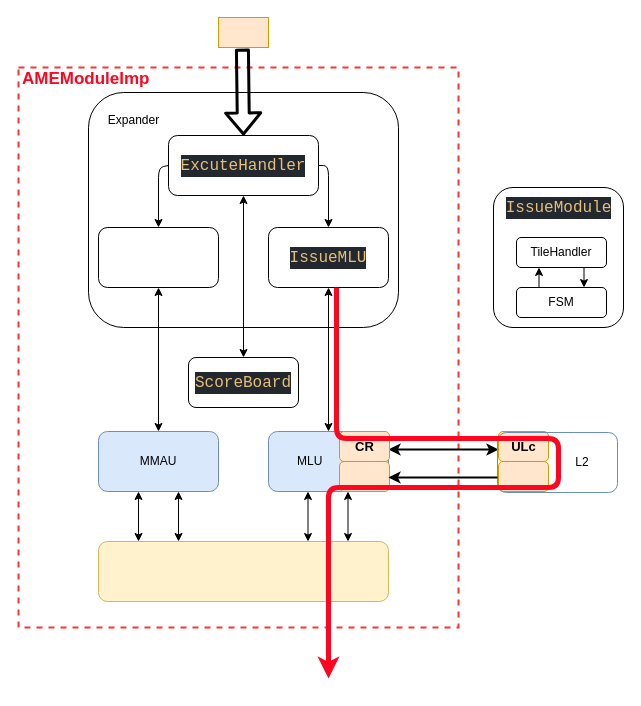
This 641x706 diagram has some shape labels left out. The centre of each missing label's shape, as x and y in pixels:
CRB: (x=364, y=476)
IssueMMAU: (x=158, y=257)
Mc: (x=523, y=476)
TR_Regs / ACC_Regs: (x=243, y=571)
Uop: (x=243, y=32)
